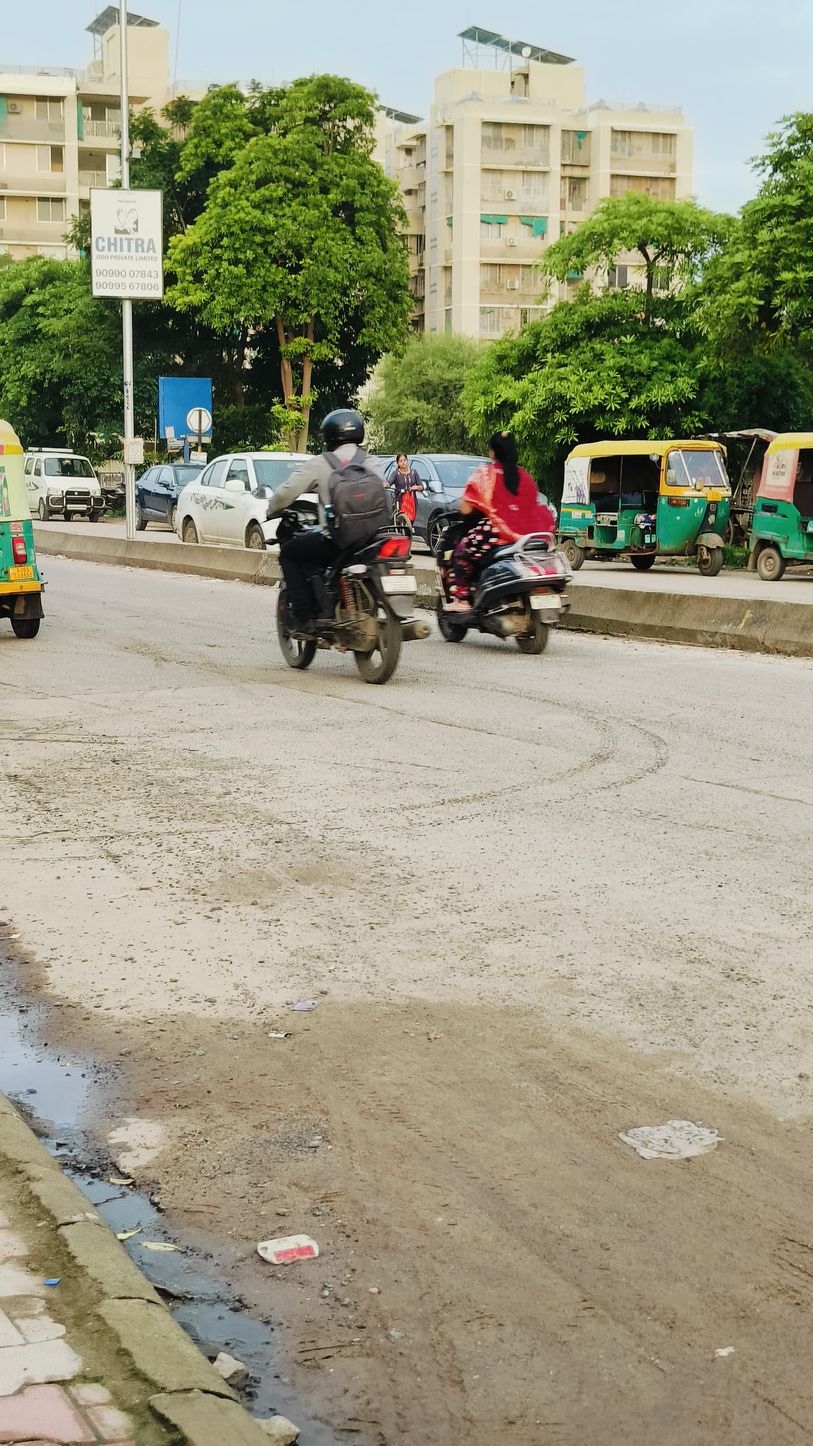BikeWithRider: (256, 400, 436, 692), (426, 427, 576, 658)
Helmet: (314, 404, 373, 459)
NoHelmet: (482, 431, 523, 478)
